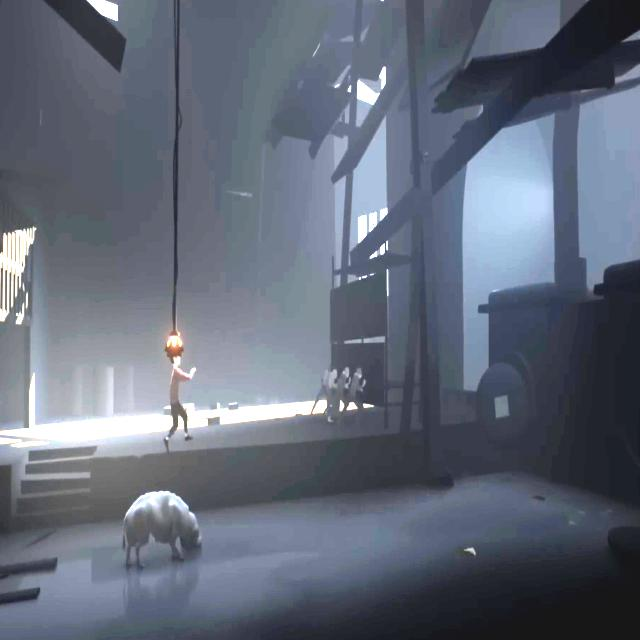boy: (163, 357, 196, 454)
interactible: (164, 335, 185, 351)
zombie: (310, 367, 329, 415), (337, 367, 351, 423), (350, 368, 366, 416), (329, 366, 337, 418)
